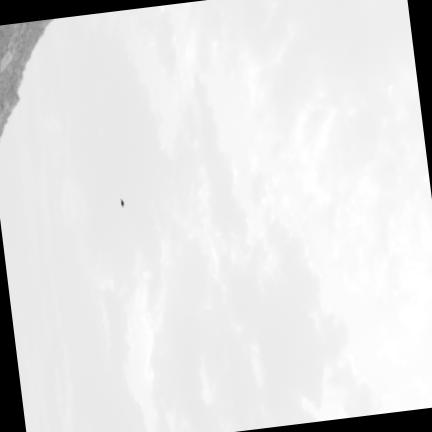Shahed: (120, 199, 123, 206)
